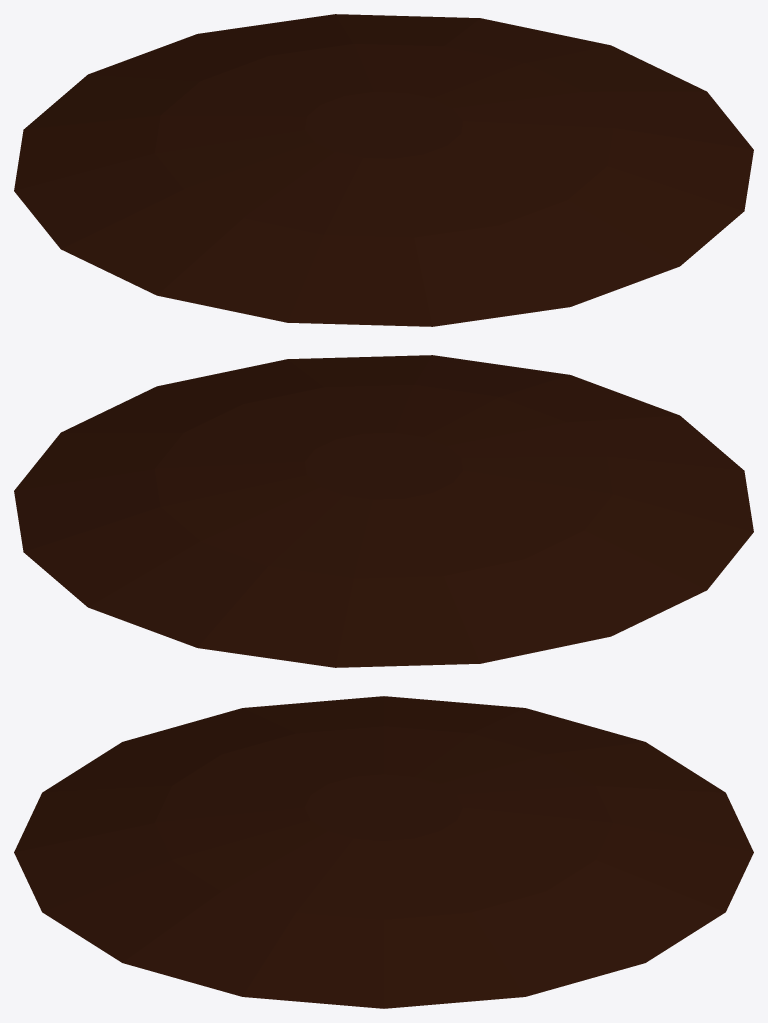
Rendered from Stage0.glb.
3 views of the same model, one above another, from view 1: azimuth 30°, elevation 25°; view 2: azimuth 150°, elevation 25°; view 3: azimuth 270°, elevation 25° (orthographic).
Visible parts, largest first — view 1: Cone; view 2: Cone; view 3: Cone.
Part boxes in pixels (box(x1,y1,x2,y2)): Cone: box(14, 14, 753, 326); Cone: box(14, 355, 753, 667); Cone: box(14, 696, 753, 1008).
Size of the model in its own units: 0.5142 by 0.0343 by 0.5142.
